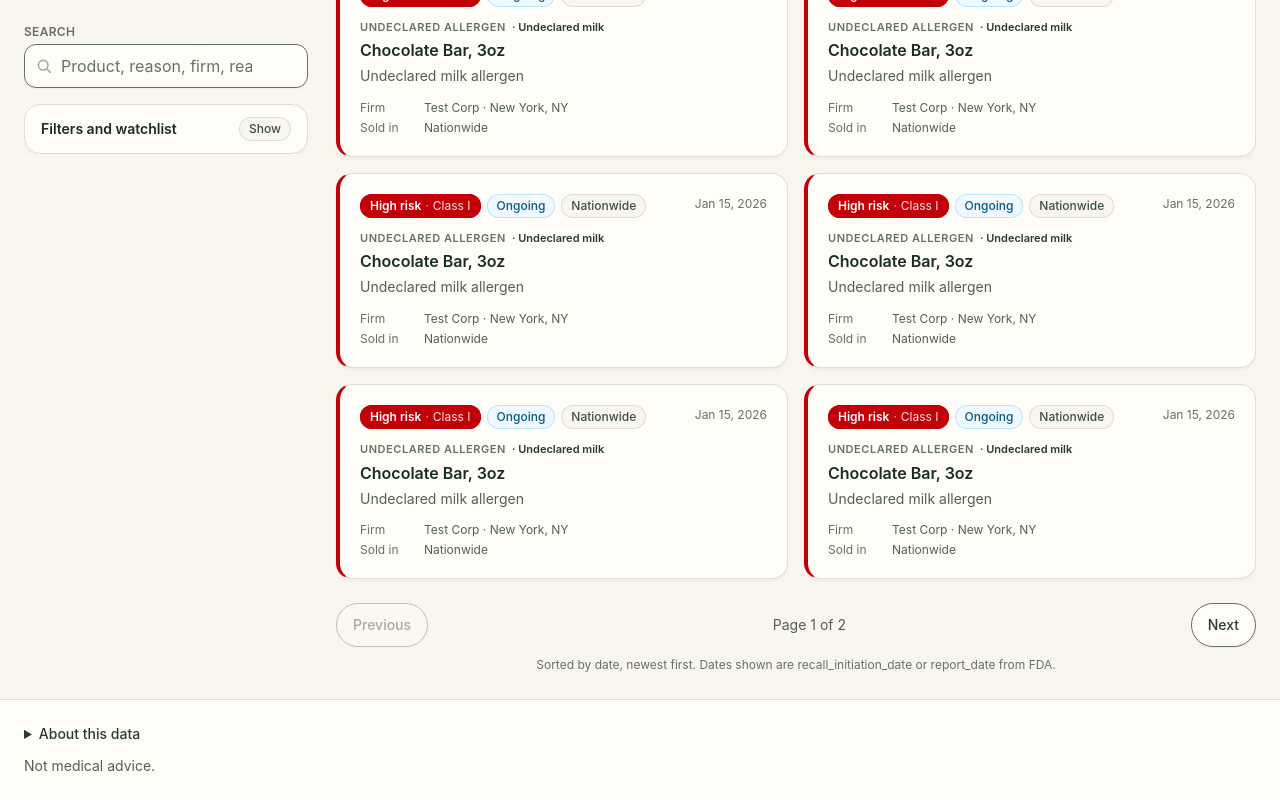
Test: App search and pagination › resets page to 0 when debounced search changes
(page scrolled)
Check: the text "Page 1 of 2" is shown, box [773, 615, 846, 635]
Click the button "Next" at (1223, 625), box [1191, 603, 1256, 647]
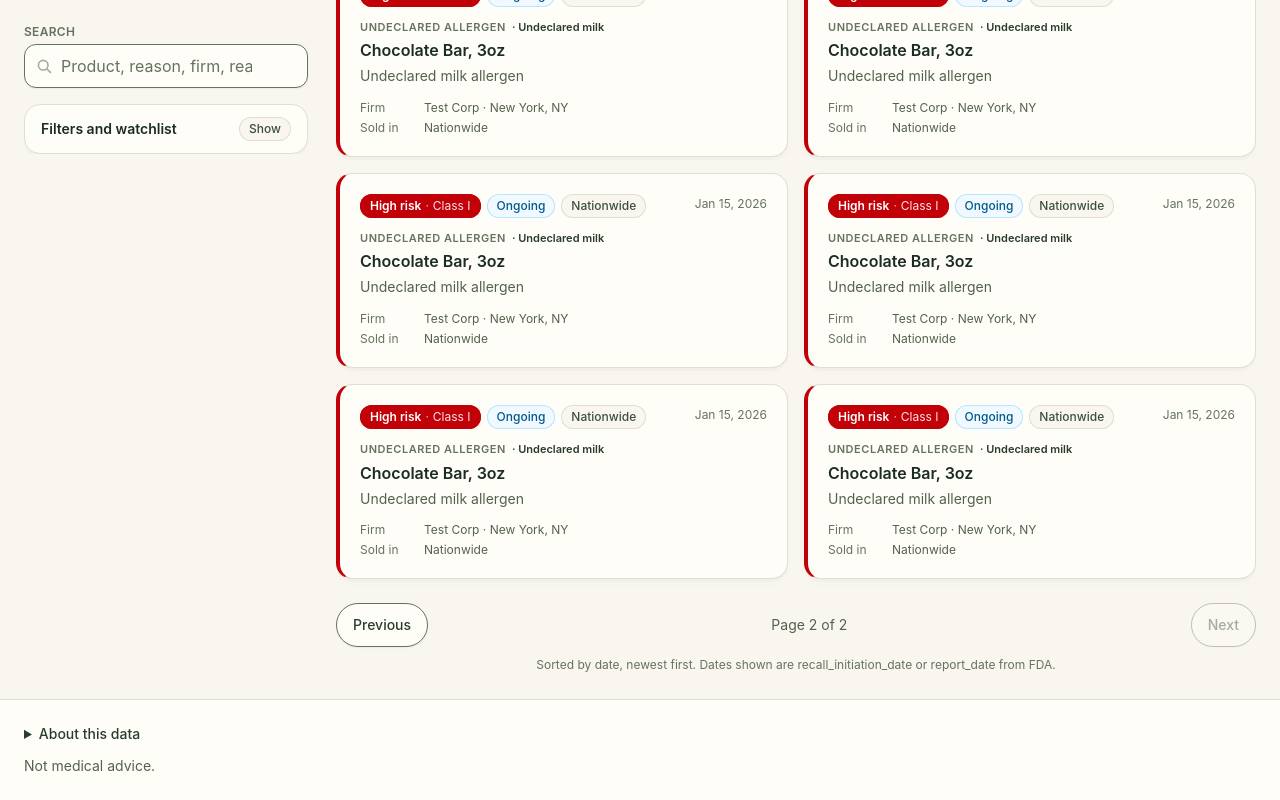
Check: the text "Page 2 of 2" is shown, box [771, 615, 847, 635]
Type "milk" into the search field with placeholder "Product, reason, firm, reaction…" at (166, 66), box [24, 44, 308, 88]
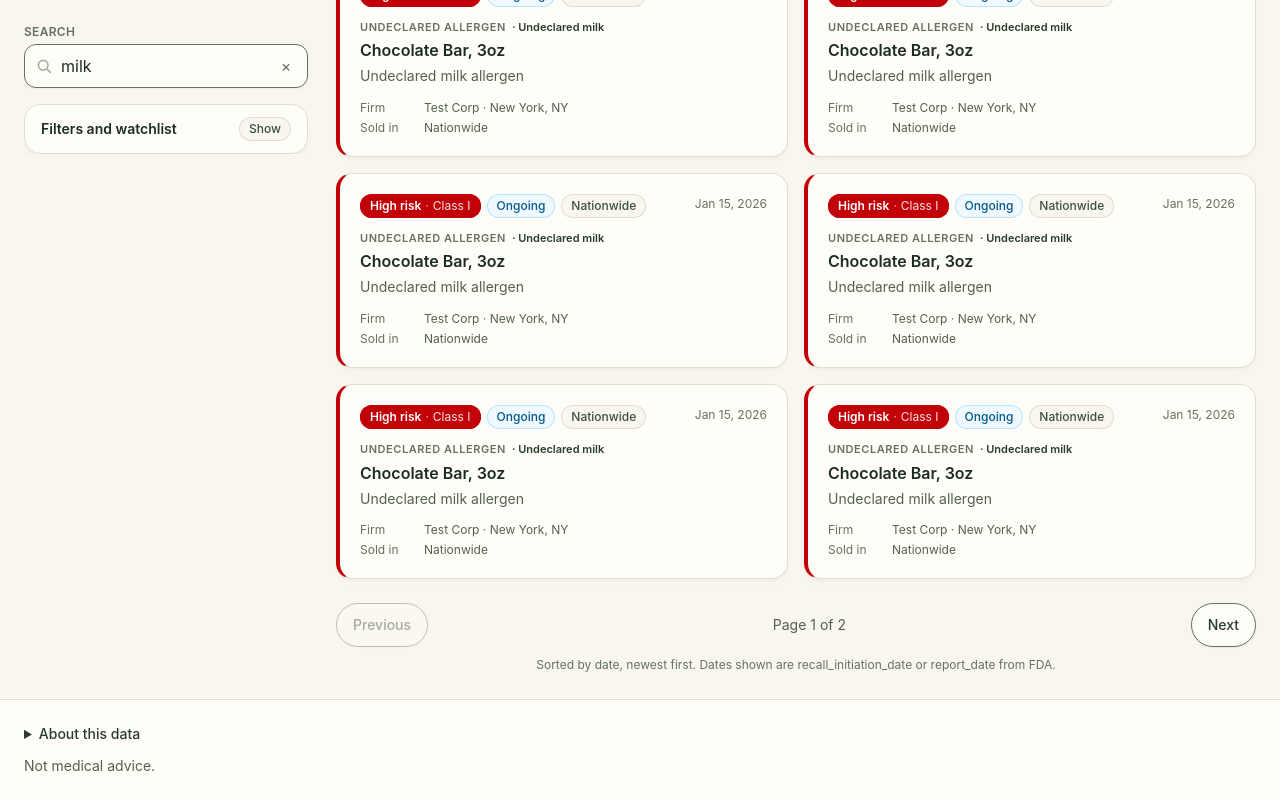
Check: the text "Page 1 of 2" is shown, box [773, 615, 846, 635]
